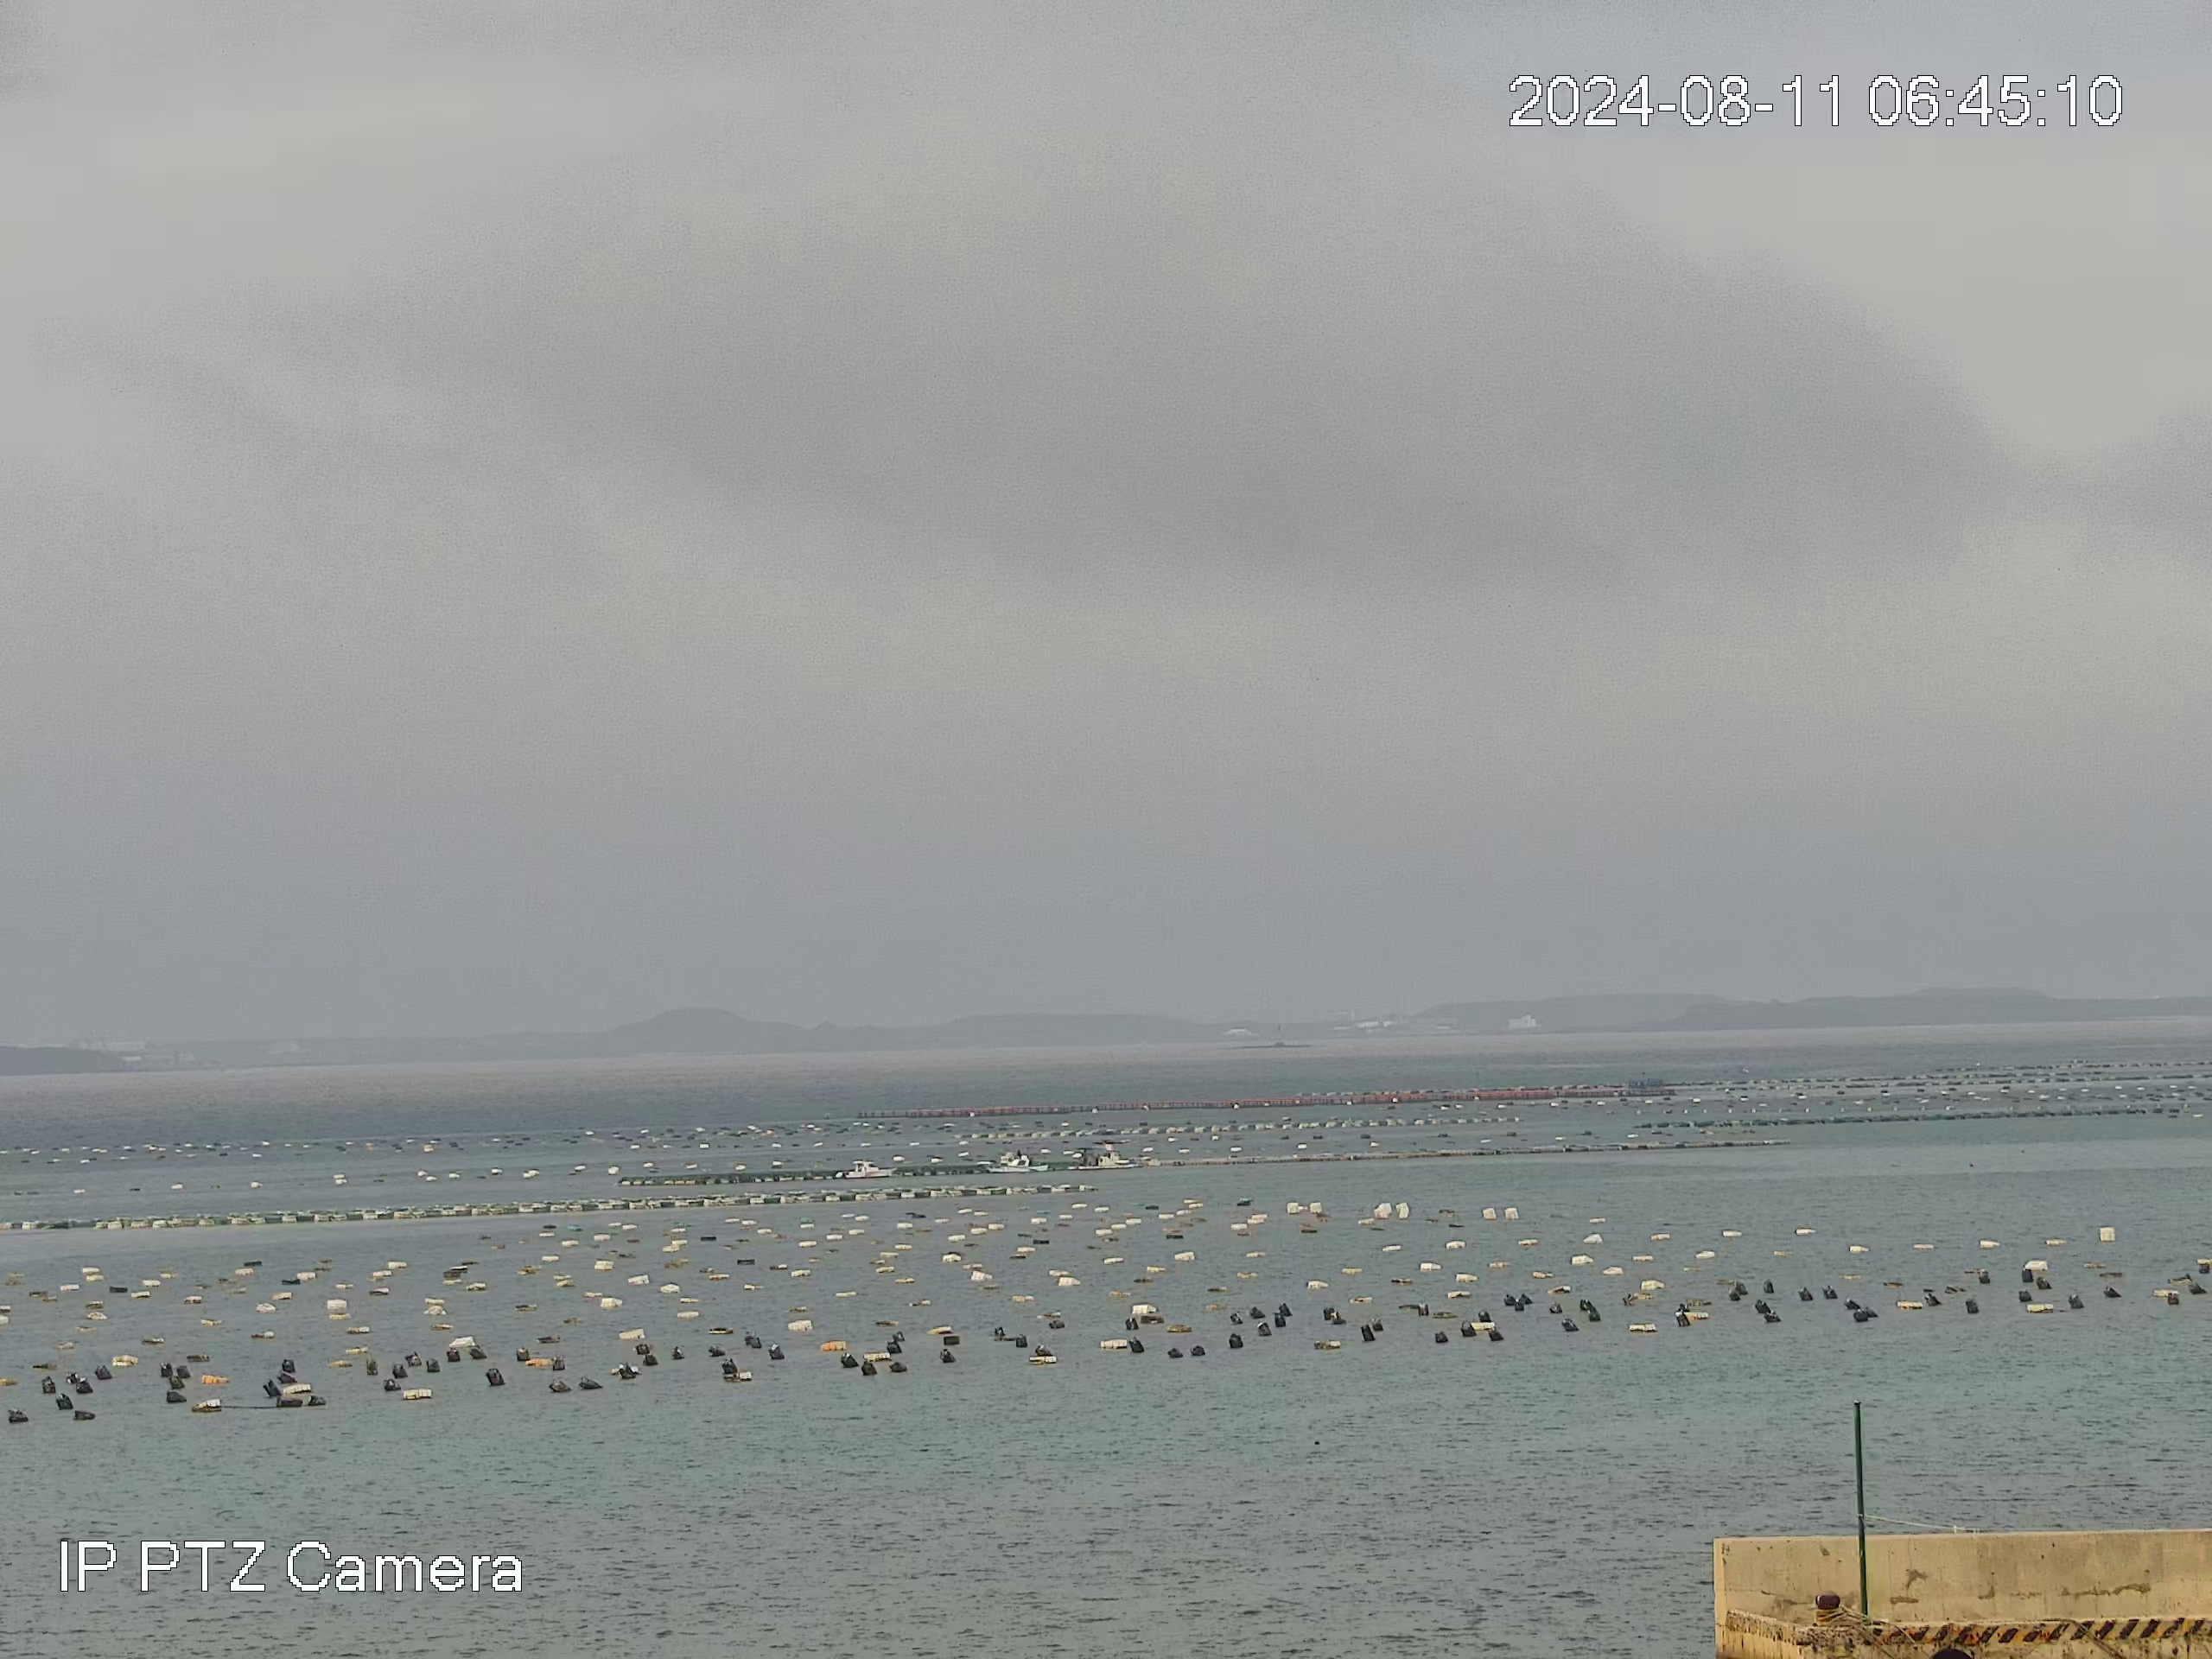boat: (975, 1152, 1050, 1175), (833, 1159, 895, 1180), (1066, 1148, 1122, 1169)
